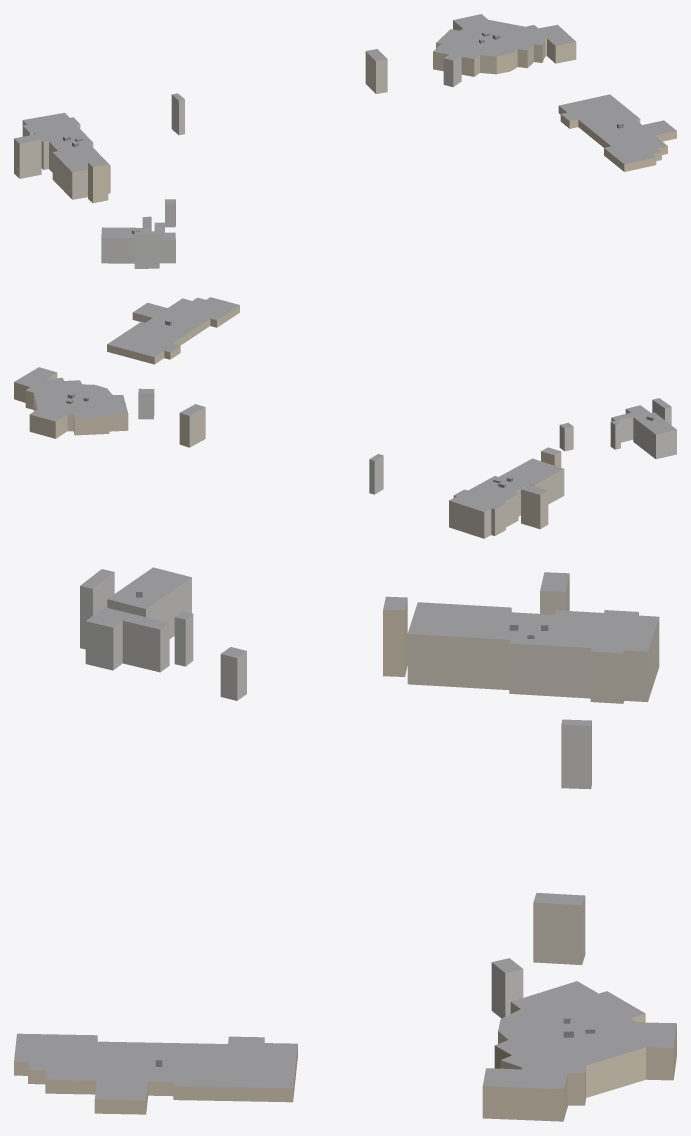
File: building_3_0.glb
3 renders of one model, top to bottom at view 1: azimuth 30°, elevation 25°; view 2: azimuth 150°, elevation 25°; view 3: azimuth 270°, elevation 25°, orthographic. The views are drawn at different scales.
Parts seen in each view (by area): view 1: roof, sandstone, concrete_light, concrete_warm; view 2: roof, concrete_warm, sandstone, concrete_light; view 3: roof, concrete_warm, sandstone, concrete_light.
Boxes of the visible parts, x1,y1,x2,y2 form: roof: (14,14,676,239); sandstone: (88,20,676,203); concrete_light: (101,55,461,268); concrete_warm: (14,51,387,199); roof: (14,297,676,511); concrete_warm: (179,407,564,538); sandstone: (14,305,561,467); concrete_light: (138,390,676,494); roof: (14,567,676,1100); concrete_warm: (407,574,659,965); sandstone: (14,599,676,1121); concrete_light: (80,572,591,1018).
Size of the model in its own units: 249 by 15.21 by 137.
